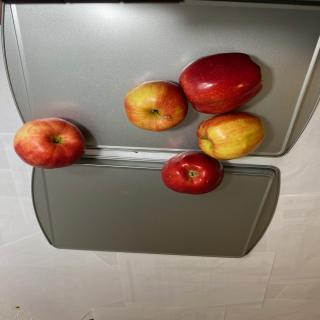Apple: (178, 52, 264, 115), (13, 117, 86, 169), (196, 111, 266, 160), (124, 80, 188, 132), (162, 150, 224, 195)
